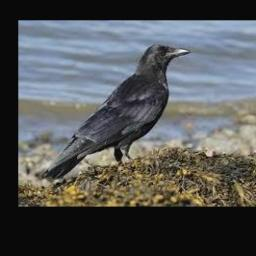Crow: (41, 44, 190, 180)
